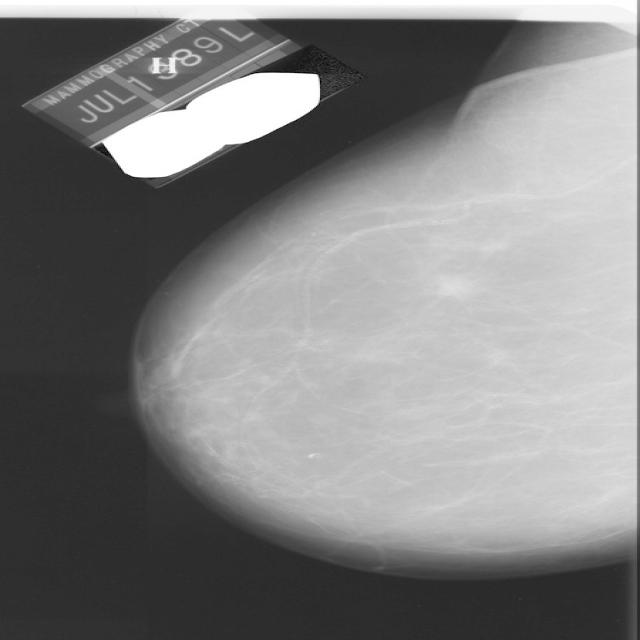tumour: (428, 271, 479, 298)
